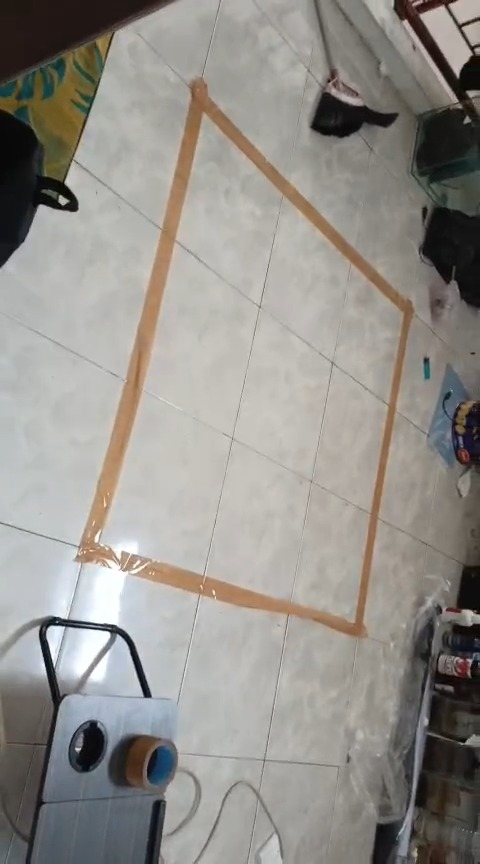floor marking: (77, 79, 412, 636)
